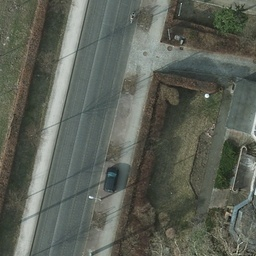car: (104, 164, 120, 194)
